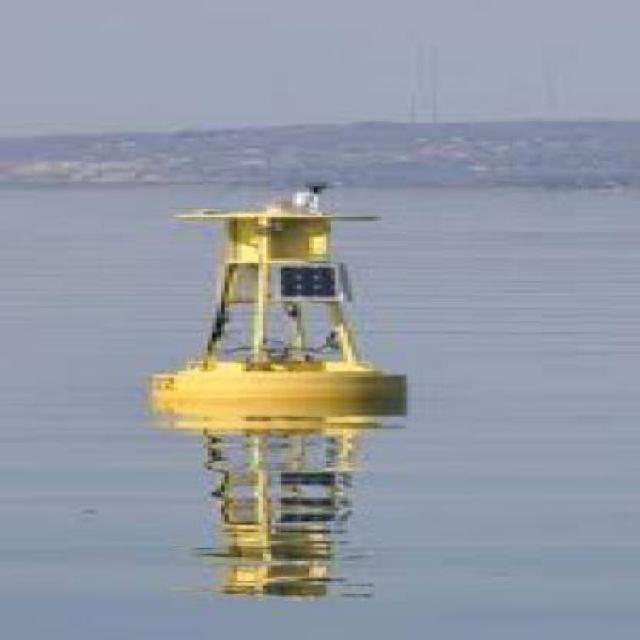buoy: (124, 176, 421, 437)
